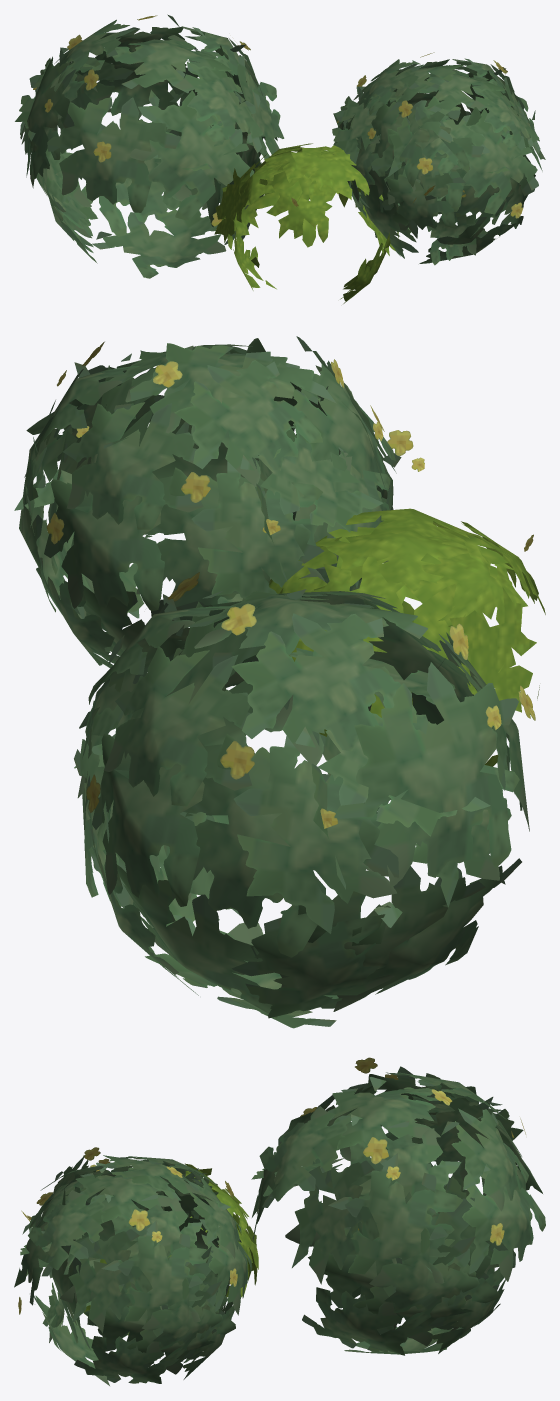
Rendered from pref_sm_beach_bk_pointmol_grassplant04_lv1.fbx.
The picture shows the model from 3 angles, top to bottom: view 1: azimuth 30°, elevation 25°; view 2: azimuth 150°, elevation 25°; view 3: azimuth 270°, elevation 25°; orthographic projection. The views are drawn at different scales.
Parts seen in each view (by area): view 1: pref_sm_beach_bk_pointmol_grassplant04_lv1; view 2: pref_sm_beach_bk_pointmol_grassplant04_lv1; view 3: pref_sm_beach_bk_pointmol_grassplant04_lv1.
Boxes of the visible parts, <box> form: pref_sm_beach_bk_pointmol_grassplant04_lv1: <box>15,14,545,303</box>; pref_sm_beach_bk_pointmol_grassplant04_lv1: <box>14,336,545,1028</box>; pref_sm_beach_bk_pointmol_grassplant04_lv1: <box>14,1057,545,1385</box>.
Bounding box in the file's own units: 6.58 × 3.99 × 7.1.
